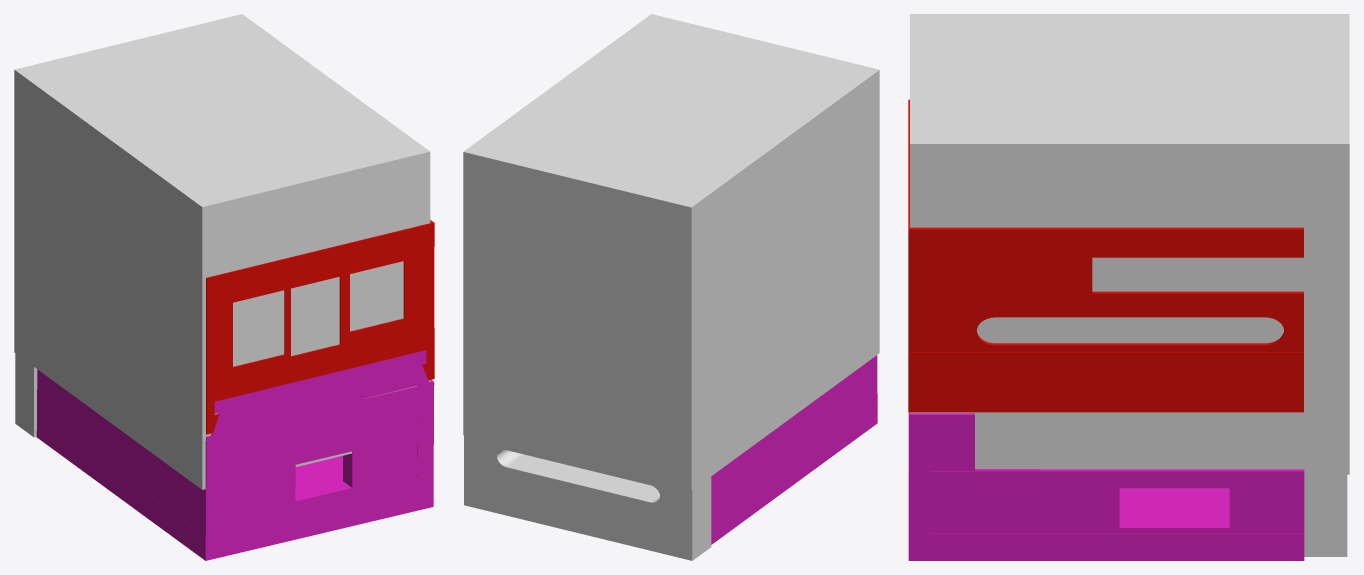
The model's file is omnitxt.glb.
3 renders of one model, left to right at view 1: azimuth 30°, elevation 25°; view 2: azimuth 150°, elevation 25°; view 3: azimuth 270°, elevation 25°, orthographic. The views are drawn at different scales.
Parts seen in each view (by area): view 1: BoxSize Expected, SIM808Case, RaspPi, Back Cap; view 2: BoxSize Expected, Back Cap, SIM808Case; view 3: BoxSize Expected, RaspPi, SIM808Case, Back Cap.
Boxes of the visible parts, bbox=[...] form: BoxSize Expected: bbox=[14, 14, 430, 489]; SIM808Case: bbox=[36, 350, 434, 560]; RaspPi: bbox=[206, 220, 434, 434]; Back Cap: bbox=[15, 146, 37, 437]; BoxSize Expected: bbox=[463, 14, 879, 490]; Back Cap: bbox=[464, 268, 711, 560]; SIM808Case: bbox=[711, 355, 877, 544]; BoxSize Expected: bbox=[910, 14, 1349, 474]; RaspPi: bbox=[908, 99, 1303, 412]; SIM808Case: bbox=[908, 412, 1304, 560]; Back Cap: bbox=[1303, 227, 1347, 556].
Bounding box in the file's own units: 0.0711 × 0.1043 × 0.1004.
